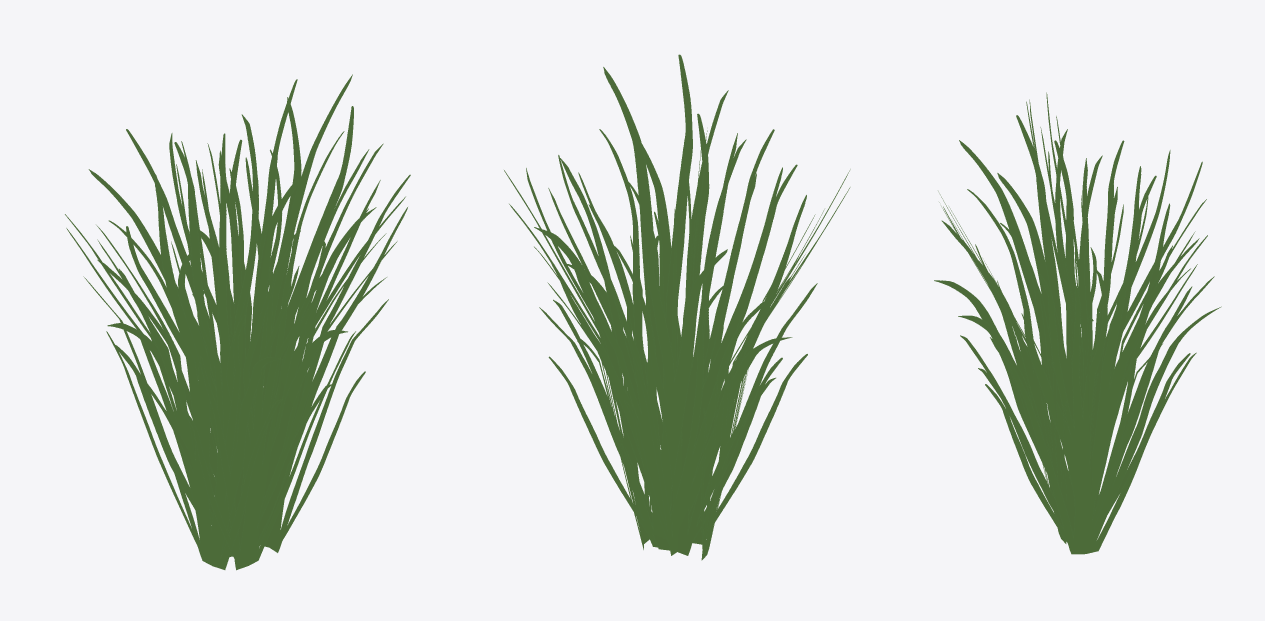
File: MEADOW_SM_Grass_02_02.gltf
The picture shows the model from 3 angles, left to right: view 1: azimuth 30°, elevation 25°; view 2: azimuth 150°, elevation 25°; view 3: azimuth 270°, elevation 25°; orthographic projection. The views are drawn at different scales.
Visible parts, largest first — view 1: SM_Grass_02_02_LOD0; view 2: SM_Grass_02_02_LOD0; view 3: SM_Grass_02_02_LOD0.
Boxes of the visible parts, x1=… form: SM_Grass_02_02_LOD0: x1=65, y1=74, x2=410, y2=570; SM_Grass_02_02_LOD0: x1=504, y1=54, x2=850, y2=560; SM_Grass_02_02_LOD0: x1=934, y1=92, x2=1221, y2=554.
Bounding box in the file's own units: 0.5644 × 0.7792 × 0.5168.
Materials: 1 (1 with a texture image).
